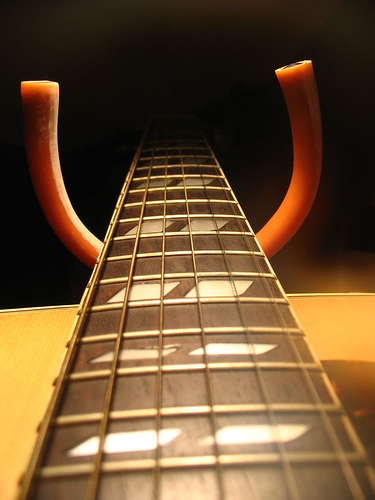guitar: (1, 126, 375, 500)
